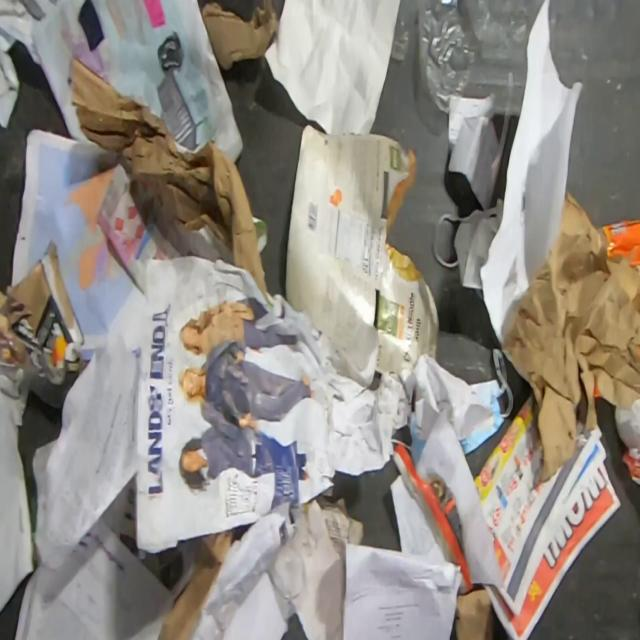cardboard: (70, 55, 269, 292), (283, 122, 440, 388), (502, 187, 640, 483), (157, 529, 234, 640), (201, 0, 278, 71), (454, 588, 495, 640)
soft_plastic: (416, 0, 480, 114), (390, 13, 410, 63)
